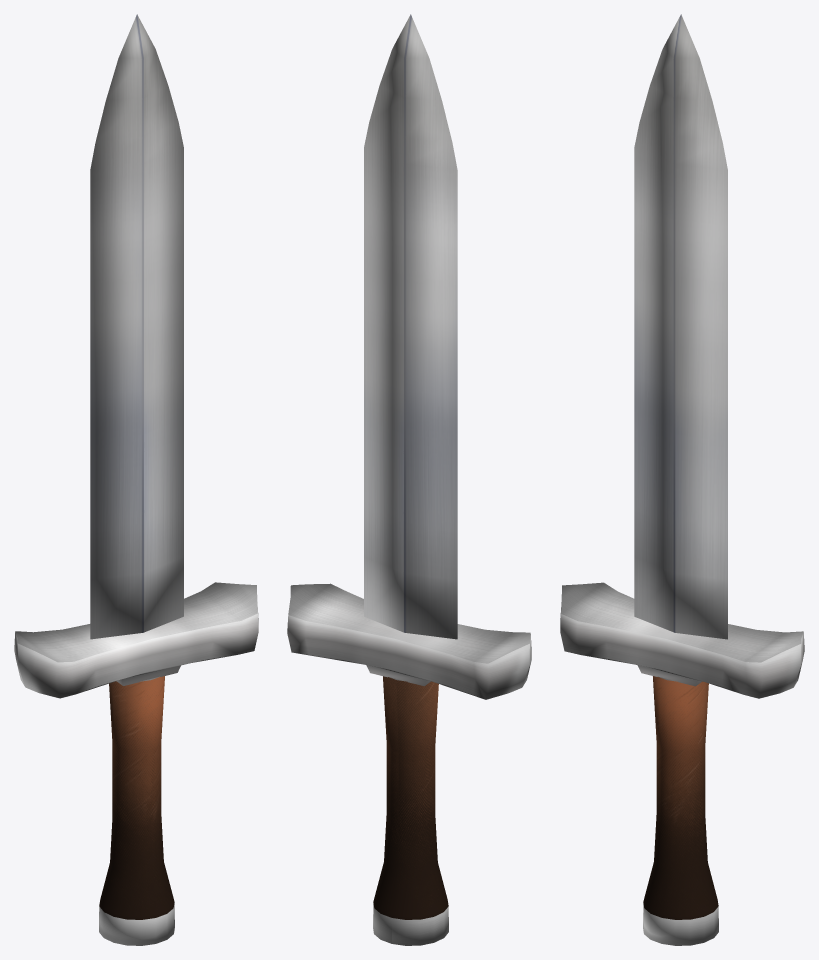
The model's file is sword_solder_s blade.FBX.
3 renders of one model, left to right at view 1: azimuth 30°, elevation 25°; view 2: azimuth 150°, elevation 25°; view 3: azimuth 330°, elevation 25°, orthographic.
Visible parts, largest first — view 1: Cylinder002; view 2: Cylinder002; view 3: Cylinder002.
Part boxes in pixels (x1,y1,x2,y2): Cylinder002: (14, 14, 258, 945); Cylinder002: (287, 14, 531, 945); Cylinder002: (560, 14, 804, 945).
Size of the model in its own units: 38.55 by 141 by 11.92.
Materials: 1 (1 with a texture image).
